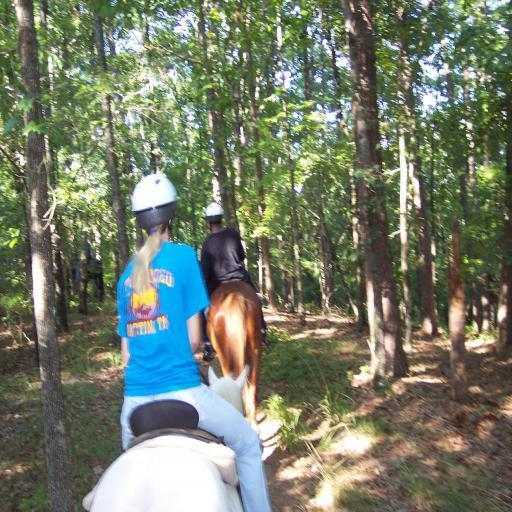horse: (88, 364, 250, 512), (204, 279, 264, 427)
